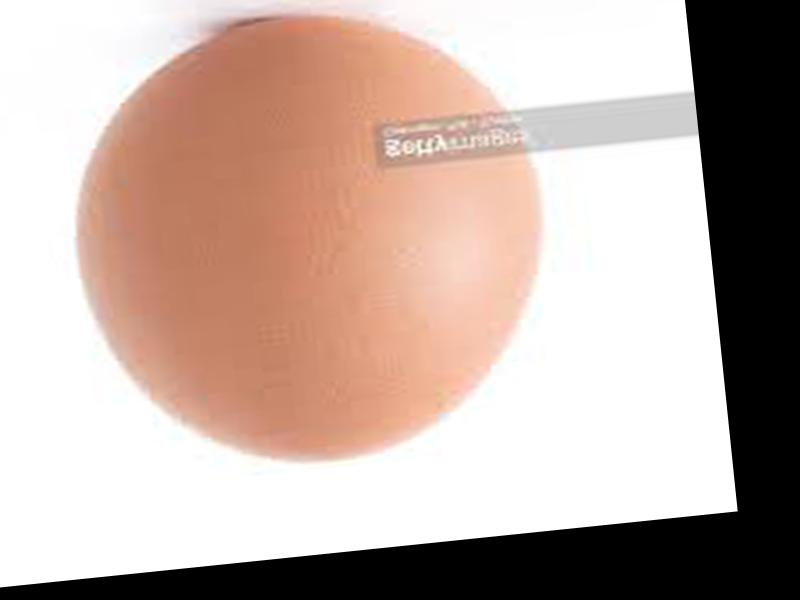Eggs: (57, 2, 566, 485)
